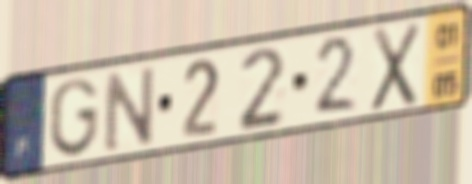2: (235, 45, 289, 135), (311, 32, 362, 123), (180, 55, 222, 139)
G: (47, 74, 101, 159)
N: (103, 61, 158, 157)
X: (368, 19, 423, 116)
